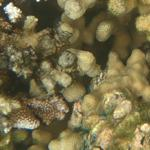dead: (1, 9, 145, 147)
